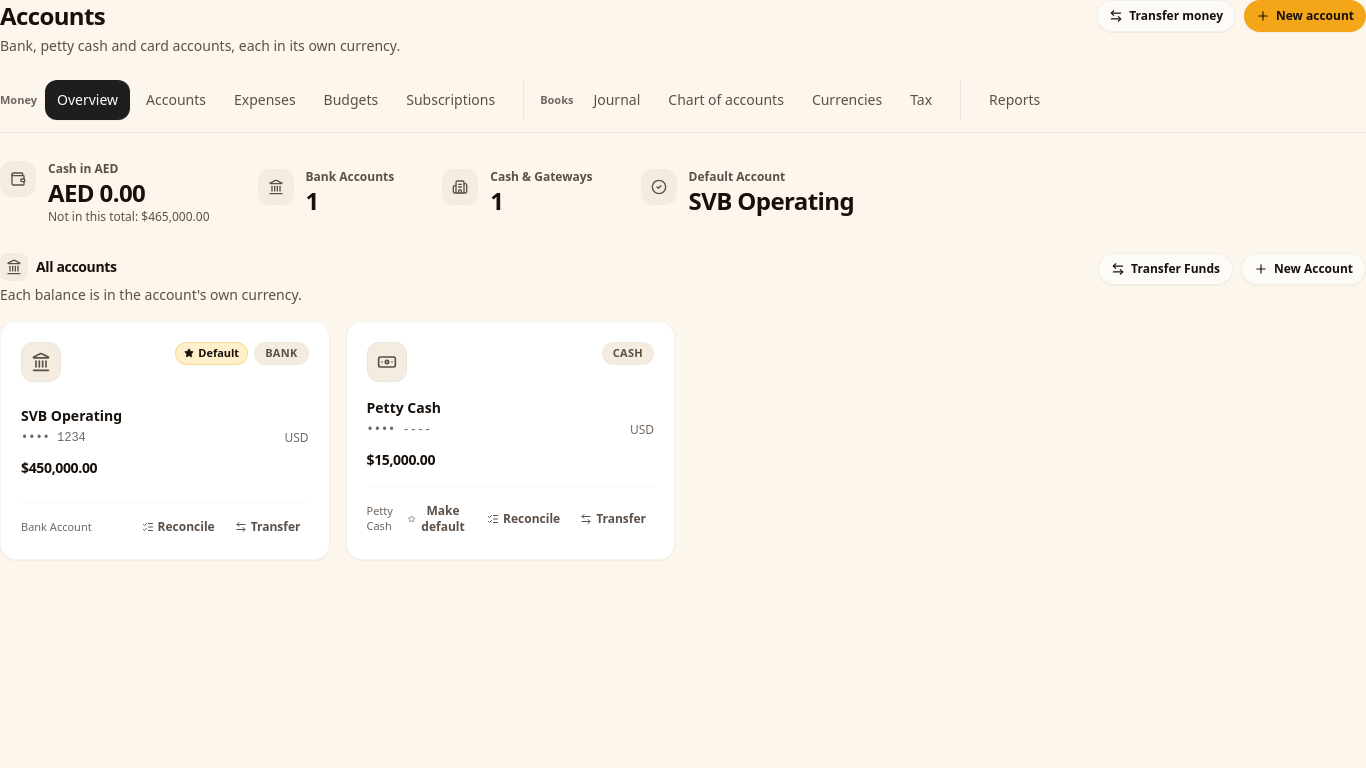
Finance Routes & Views Suite › AccountsView (/finance/accounts) › opens transfer funds modal when clicking transfer funds
This screenshot has width=1366, height=768.
Click the button with test id "accounts-transfer-funds-btn": (1166, 16) [1096,0,1236,32]
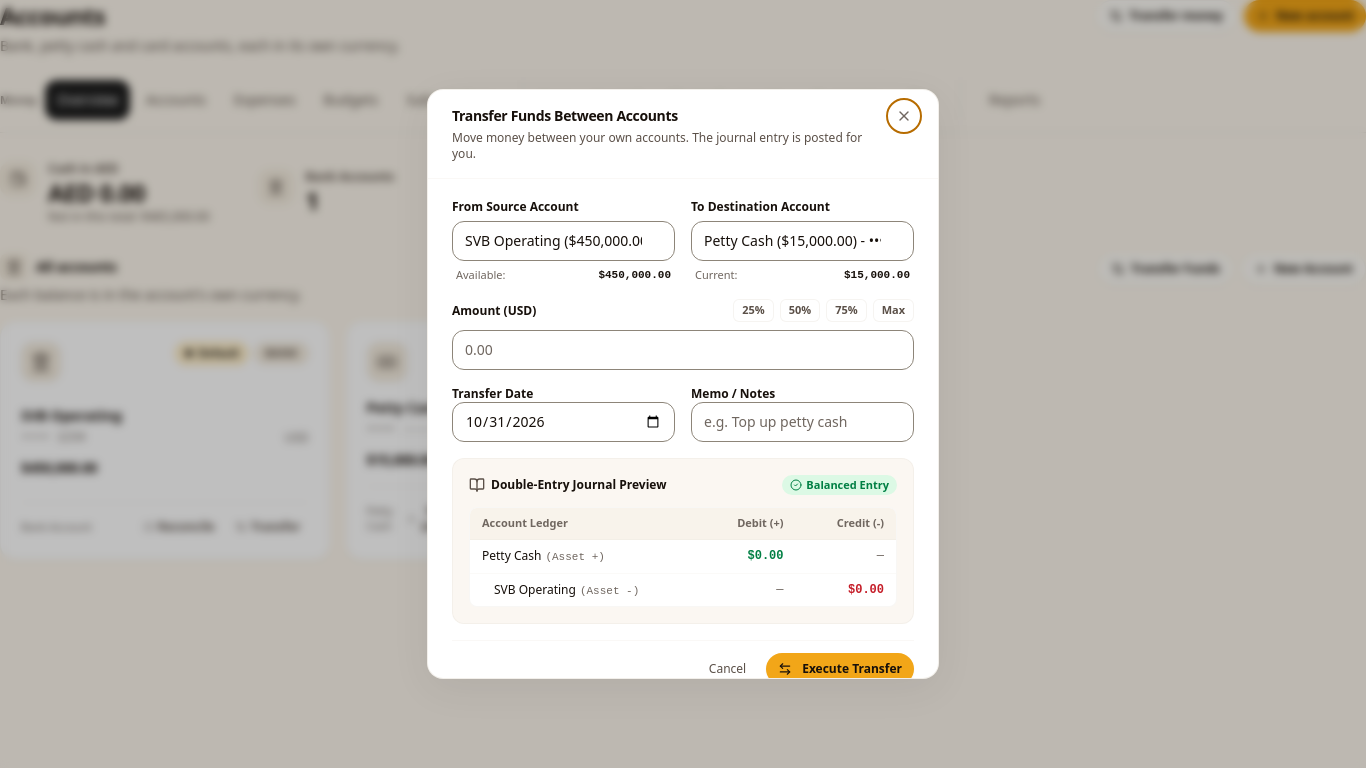
Check: the heading "Transfer Funds Between Accounts" is shown, box [452,106,678,125]
